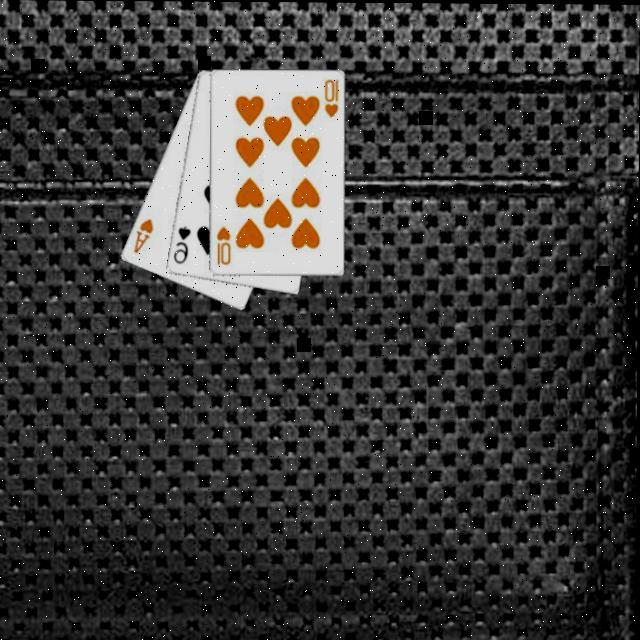10H: (215, 222, 235, 266), (323, 76, 343, 120)
9S: (172, 222, 195, 266)
AH: (132, 214, 158, 256)
